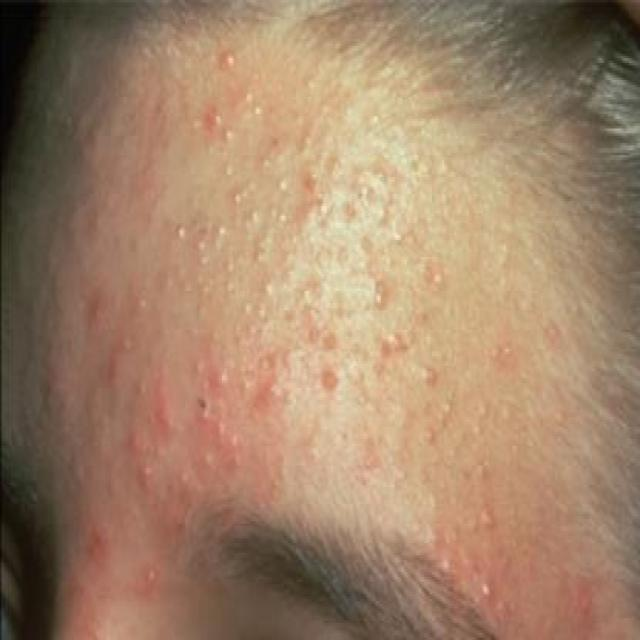acne: (467, 451, 497, 485), (475, 572, 501, 604), (420, 354, 444, 388), (216, 41, 237, 78), (370, 351, 390, 388), (142, 555, 162, 592), (197, 446, 219, 478), (322, 324, 347, 352), (340, 199, 362, 228), (202, 104, 225, 131), (333, 238, 353, 269), (217, 250, 239, 278), (224, 426, 244, 456), (388, 224, 408, 254), (248, 247, 270, 274), (374, 198, 392, 230), (218, 272, 238, 300), (248, 94, 266, 124), (366, 104, 388, 128), (237, 293, 256, 320), (134, 288, 151, 318), (256, 146, 275, 172), (368, 288, 390, 310), (228, 184, 250, 206), (430, 264, 450, 288), (170, 220, 190, 244), (326, 152, 346, 174), (358, 231, 378, 253), (194, 247, 212, 269), (260, 277, 276, 301), (238, 376, 254, 400), (139, 460, 156, 482), (220, 156, 234, 182), (222, 122, 236, 146), (178, 468, 192, 490), (278, 206, 292, 228), (193, 235, 210, 252), (274, 177, 290, 194), (216, 216, 227, 238), (248, 202, 258, 226), (244, 85, 252, 107)
